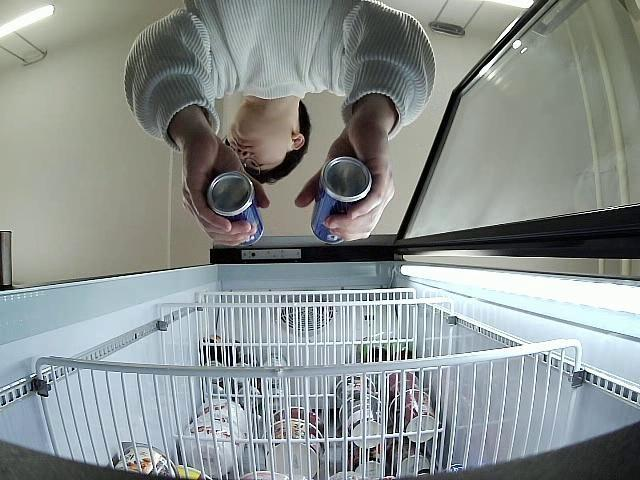16_hot6: (310, 156, 372, 244), (208, 172, 264, 244)
